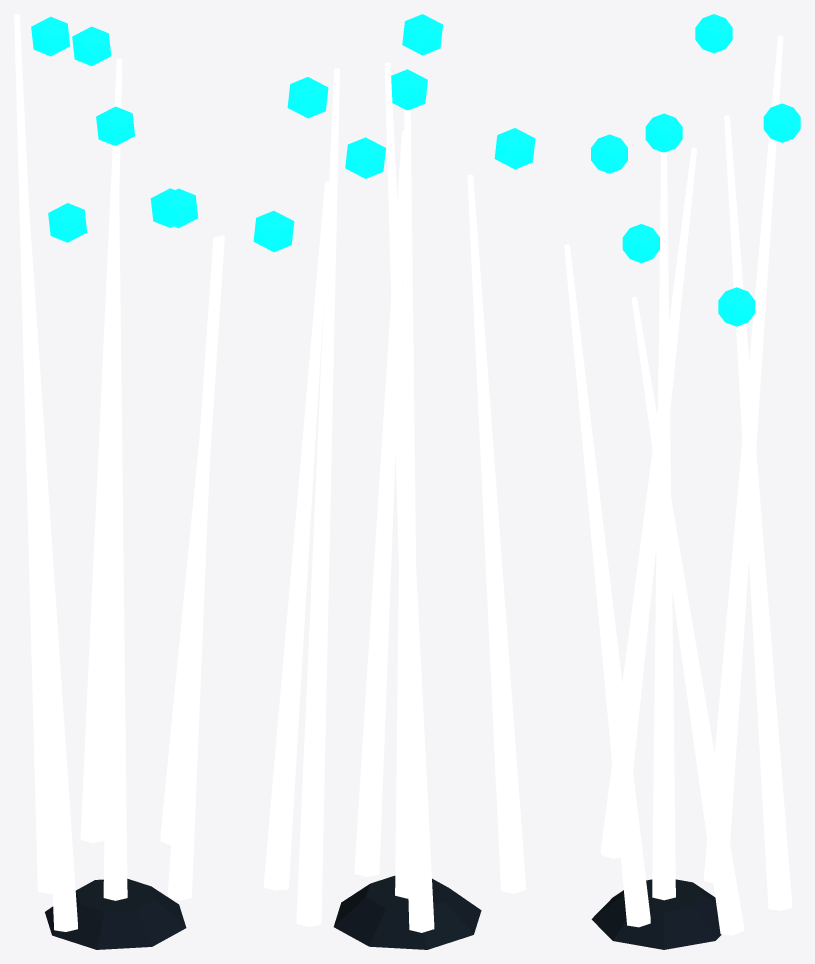
The model's file is alien_biolume_reed.glb.
3 views of the same model, side by side, from view 1: azimuth 30°, elevation 25°; view 2: azimuth 150°, elevation 25°; view 3: azimuth 270°, elevation 25° (orthographic). The views are drawn at different scales.
Visible parts, largest first — view 1: alien_biolume_reed; view 2: alien_biolume_reed; view 3: alien_biolume_reed.
Boxes of the visible parts, x1,y1,x2,y2 form: alien_biolume_reed: (14, 14, 224, 949); alien_biolume_reed: (253, 14, 535, 949); alien_biolume_reed: (564, 14, 800, 949).
Size of the model in its own units: 0.5059 by 2.15 by 0.5205.
